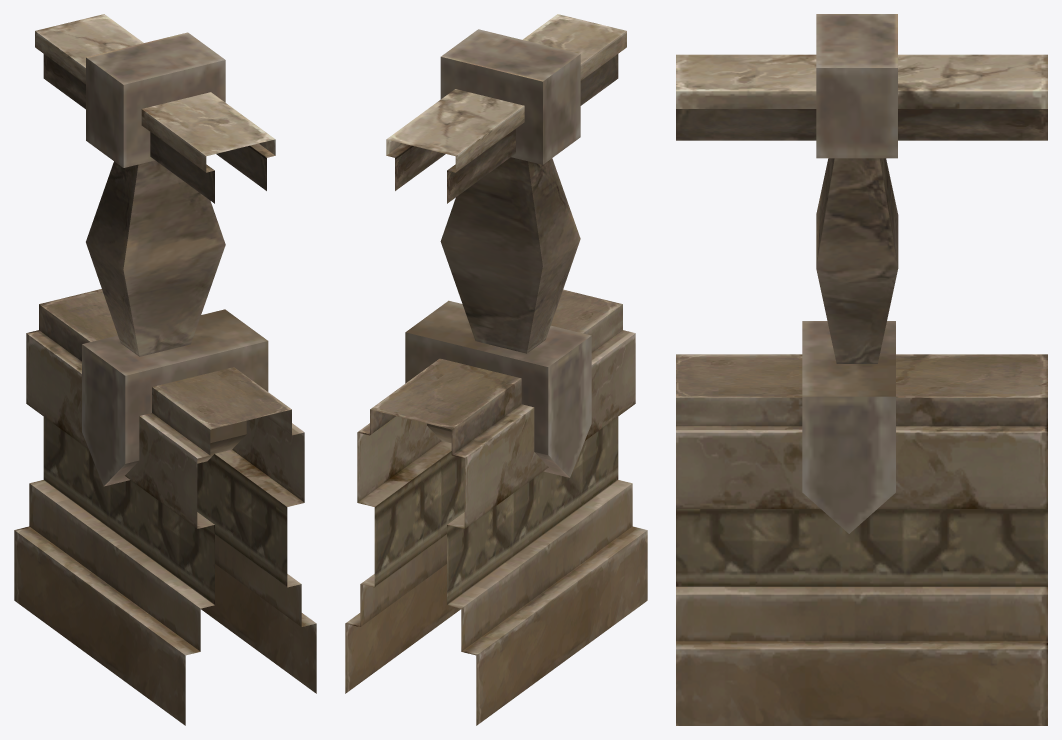
The model's file is blsd4_hulan_003.FBX.
3 views of the same model, side by side, from view 1: azimuth 30°, elevation 25°; view 2: azimuth 150°, elevation 25°; view 3: azimuth 270°, elevation 25° (orthographic). The views are drawn at different scales.
Parts seen in each view (by area): view 1: blsd4_hulan_003; view 2: blsd4_hulan_003; view 3: blsd4_hulan_003.
Boxes of the visible parts, <box> form: blsd4_hulan_003: <box>14,14,316,725</box>; blsd4_hulan_003: <box>345,14,647,725</box>; blsd4_hulan_003: <box>676,14,1047,725</box>.
Size of the model in its own units: 39.57 by 157 by 82.07.
